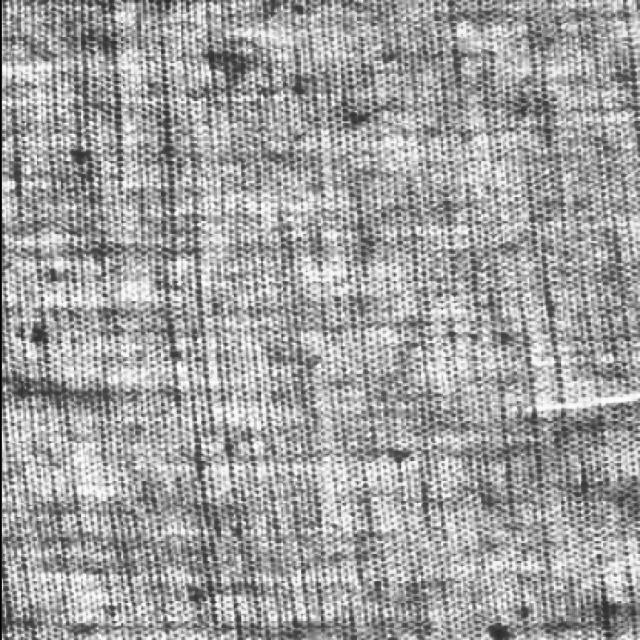hole: (495, 386, 636, 435)
